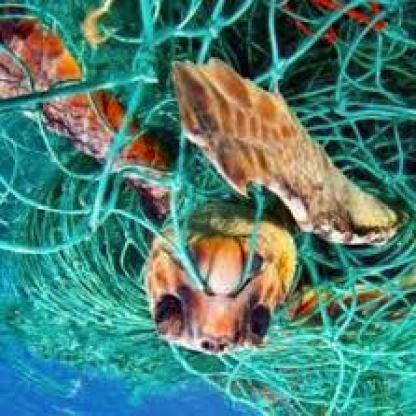net: (45, 2, 416, 385)
